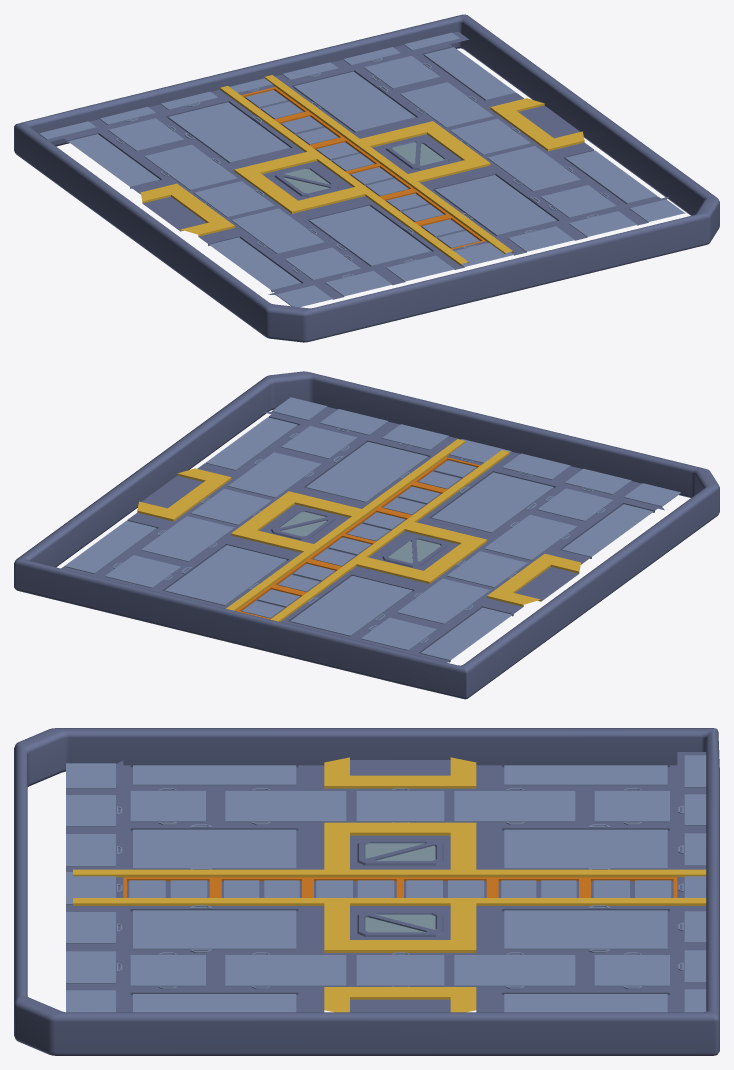
File: Ground.fbx
3 views of the same model, one above another, from view 1: azimuth 30°, elevation 25°; view 2: azimuth 150°, elevation 25°; view 3: azimuth 270°, elevation 25° (orthographic). The views are drawn at different scales.
Visible parts, largest first — view 1: Ground; view 2: Ground; view 3: Ground.
Boxes of the visible parts, left/top/right/bottom form: Ground: left=14, top=14, right=719, bottom=342; Ground: left=14, top=371, right=719, bottom=699; Ground: left=14, top=728, right=719, bottom=1055.
Bounding box in the file's own units: 5612 × 366 × 5750.
